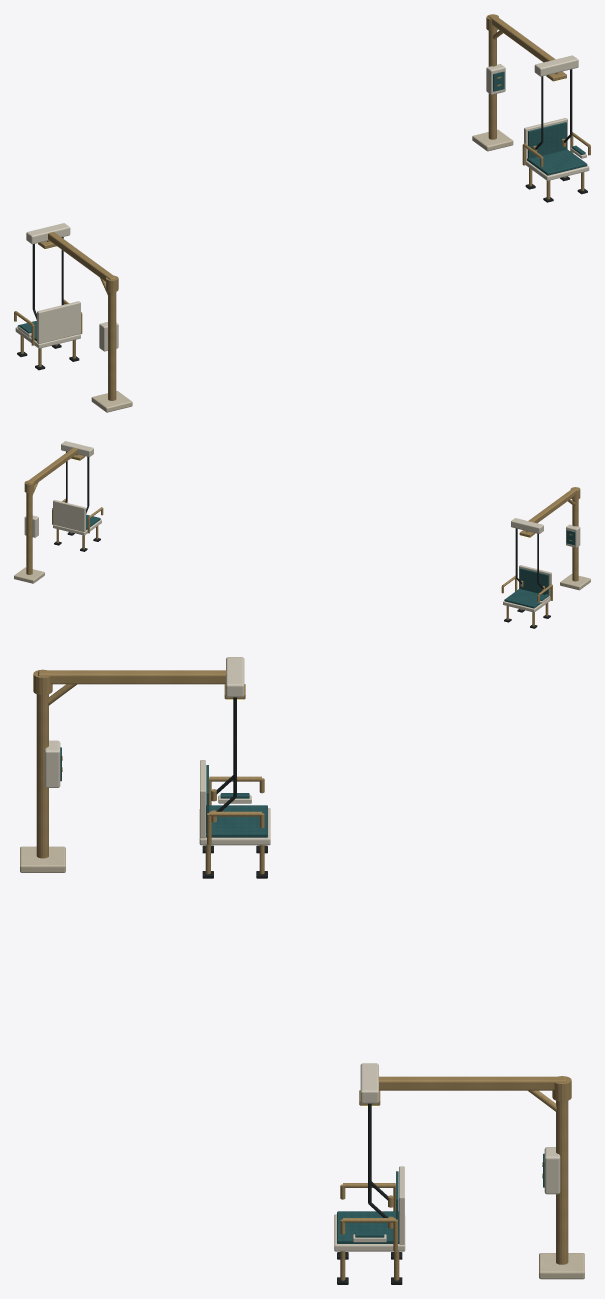
File: Group6ThermalSupport_02_r003.glb
3 renders of one model, top to bottom at view 1: azimuth 30°, elevation 25°; view 2: azimuth 150°, elevation 25°; view 3: azimuth 270°, elevation 25°, orthographic. The views are drawn at different scales.
Parts seen in each view (by area): view 1: G6_SUPPORT_02__station_1_seat_back_load, G6_SUPPORT_02__station_0_seat_back_pad, G6_SUPPORT_02__station_1_mast_load_column, G6_SUPPORT_02__station_0_seat_pad, G6_SUPPORT_02__station_1_parked_lift_arm, G6_SUPPORT_02__station_0_parked_lift_arm, G6_SUPPORT_02__station_0_mast_load_column, G6_SUPPORT_02__station_0_parked_head, G6_SUPPORT_02__station_0_mast_floor_anchor, G6_SUPPORT_02__station_1_mast_floor_anchor, G6_SUPPORT_02__station_1_parked_head; view 2: G6_SUPPORT_02__station_0_seat_back_load, G6_SUPPORT_02__station_1_seat_back_pad, G6_SUPPORT_02__station_0_mast_load_column, G6_SUPPORT_02__station_1_seat_pad, G6_SUPPORT_02__station_0_parked_lift_arm, G6_SUPPORT_02__station_1_parked_lift_arm, G6_SUPPORT_02__station_1_mast_load_column, G6_SUPPORT_02__station_1_parked_head, G6_SUPPORT_02__station_0_mast_floor_anchor, G6_SUPPORT_02__station_1_mast_floor_anchor, G6_SUPPORT_02__station_0_parked_head; view 3: G6_SUPPORT_02__station_0_parked_lift_arm, G6_SUPPORT_02__station_1_parked_lift_arm, G6_SUPPORT_02__station_0_mast_load_column, G6_SUPPORT_02__station_1_mast_load_column, G6_SUPPORT_02__station_1_seat_pad, G6_SUPPORT_02__station_0_seat_pad, G6_SUPPORT_02__station_0_mast_floor_anchor, G6_SUPPORT_02__station_1_mast_floor_anchor.
Boxes of the visible parts, x1=… form: G6_SUPPORT_02__station_1_seat_back_load: x1=37, y1=301, x2=80, y2=343; G6_SUPPORT_02__station_0_seat_back_pad: x1=528, y1=122, x2=566, y2=158; G6_SUPPORT_02__station_1_mast_load_column: x1=108, y1=292, x2=116, y2=400; G6_SUPPORT_02__station_0_seat_pad: x1=527, y1=149, x2=587, y2=175; G6_SUPPORT_02__station_1_parked_lift_arm: x1=48, y1=232, x2=116, y2=281; G6_SUPPORT_02__station_0_parked_lift_arm: x1=488, y1=14, x2=555, y2=62; G6_SUPPORT_02__station_0_mast_load_column: x1=488, y1=30, x2=496, y2=139; G6_SUPPORT_02__station_0_parked_head: x1=534, y1=55, x2=578, y2=76; G6_SUPPORT_02__station_0_mast_floor_anchor: x1=472, y1=129, x2=513, y2=151; G6_SUPPORT_02__station_1_mast_floor_anchor: x1=91, y1=391, x2=132, y2=412; G6_SUPPORT_02__station_1_parked_head: x1=26, y1=223, x2=70, y2=244; G6_SUPPORT_02__station_0_seat_back_load: x1=53, y1=500, x2=85, y2=531; G6_SUPPORT_02__station_1_seat_back_pad: x1=519, y1=568, x2=548, y2=594; G6_SUPPORT_02__station_0_mast_load_column: x1=26, y1=493, x2=32, y2=574; G6_SUPPORT_02__station_1_seat_pad: x1=504, y1=589, x2=544, y2=608; G6_SUPPORT_02__station_0_parked_lift_arm: x1=26, y1=447, x2=77, y2=484; G6_SUPPORT_02__station_1_parked_lift_arm: x1=528, y1=487, x2=578, y2=523; G6_SUPPORT_02__station_1_mast_load_column: x1=572, y1=499, x2=578, y2=581; G6_SUPPORT_02__station_1_parked_head: x1=511, y1=518, x2=543, y2=533; G6_SUPPORT_02__station_0_mast_floor_anchor: x1=14, y1=567, x2=44, y2=583; G6_SUPPORT_02__station_1_mast_floor_anchor: x1=560, y1=574, x2=590, y2=590; G6_SUPPORT_02__station_0_parked_head: x1=61, y1=441, x2=93, y2=456; G6_SUPPORT_02__station_0_parked_lift_arm: x1=378, y1=1076, x2=566, y2=1090; G6_SUPPORT_02__station_1_parked_lift_arm: x1=38, y1=670, x2=226, y2=684; G6_SUPPORT_02__station_0_mast_load_column: x1=556, y1=1100, x2=568, y2=1264; G6_SUPPORT_02__station_1_mast_load_column: x1=36, y1=694, x2=48, y2=858; G6_SUPPORT_02__station_1_seat_pad: x1=206, y1=805, x2=267, y2=837; G6_SUPPORT_02__station_0_seat_pad: x1=337, y1=1211, x2=398, y2=1243; G6_SUPPORT_02__station_0_mast_floor_anchor: x1=539, y1=1253, x2=584, y2=1279; G6_SUPPORT_02__station_1_mast_floor_anchor: x1=20, y1=846, x2=65, y2=872.
Bounding box in the file's own units: 10.91 × 2.22 × 5.88.
6 materials, 5 textured.
